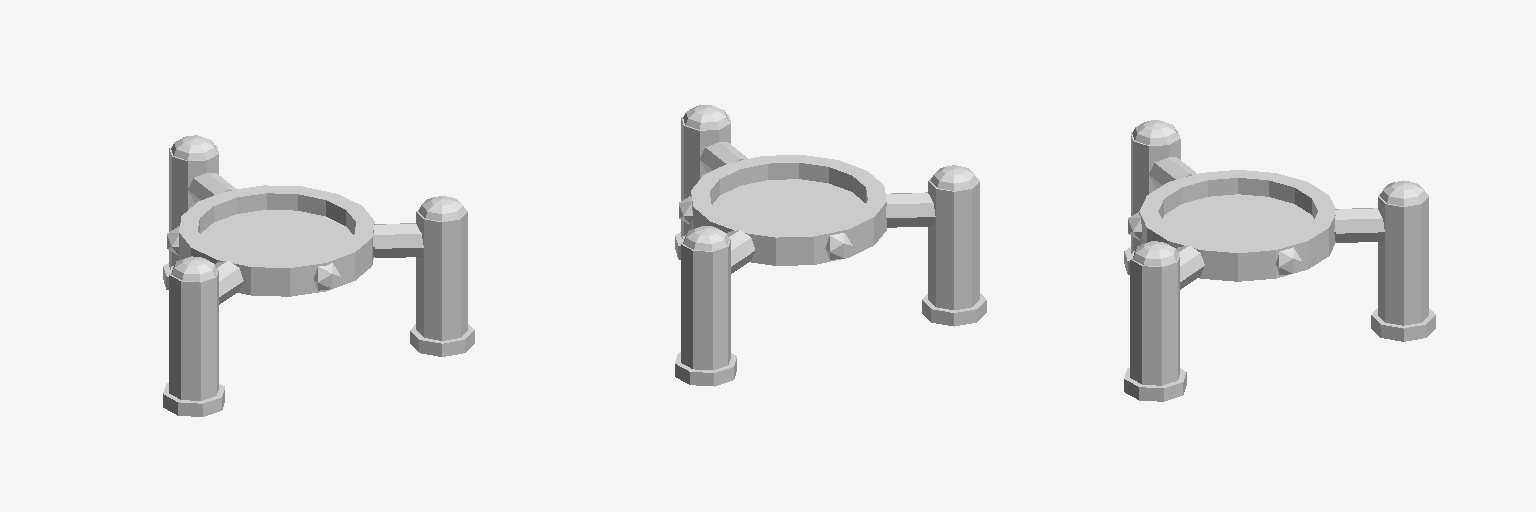
Rendered from warppoint_small.obj.
The picture shows the model from 3 angles: view 1: azimuth 30°, elevation 25°; view 2: azimuth 150°, elevation 25°; view 3: azimuth 270°, elevation 25°; orthographic projection.
Visible parts, largest first — view 1: polygon15, polygon6, polygon9, polygon0, polygon12, polygon7, polygon10, polygon8, polygon2, polygon11, polygon13, polygon14 (+1 smaller); view 2: polygon15, polygon9, polygon0, polygon6, polygon14, polygon10, polygon1, polygon11, polygon2, polygon8, polygon12, polygon13 (+1 smaller); view 3: polygon15, polygon6, polygon0, polygon9, polygon13, polygon1, polygon7, polygon2, polygon8, polygon11, polygon14, polygon12.
Part boxes in pixels (x1,y1,x2,y2): polygon15: (179,185,374,296); polygon6: (416,208,467,340); polygon9: (169,266,218,400); polygon0: (169,145,218,269); polygon12: (374,223,423,257); polygon7: (410,324,474,356); polygon10: (163,383,224,416); polygon8: (418,196,465,221); polygon2: (171,135,216,160); polygon11: (171,256,216,281); polygon13: (188,173,235,202); polygon14: (215,260,243,304); polygon15: (691,155,886,265); polygon9: (928,178,979,309); polygon0: (681,235,730,369); polygon6: (681,114,730,238); polygon14: (886,192,935,227); polygon10: (922,293,986,326); polygon1: (675,352,736,386); polygon11: (930,165,977,190); polygon2: (683,226,728,250); polygon8: (683,105,728,129); polygon12: (700,142,747,172); polygon13: (727,230,755,273); polygon15: (1139,170,1335,281); polygon6: (1130,251,1179,385); polygon0: (1378,192,1428,325); polygon9: (1131,130,1180,253); polygon13: (1335,208,1384,242); polygon1: (1371,308,1435,341); polygon7: (1124,368,1186,401); polygon2: (1380,180,1426,205); polygon8: (1132,241,1178,266); polygon11: (1132,120,1177,144); polygon14: (1149,157,1196,187); polygon12: (1176,245,1204,289).
Bounding box in the file's own units: 1.37 × 0.6248 × 1.22.